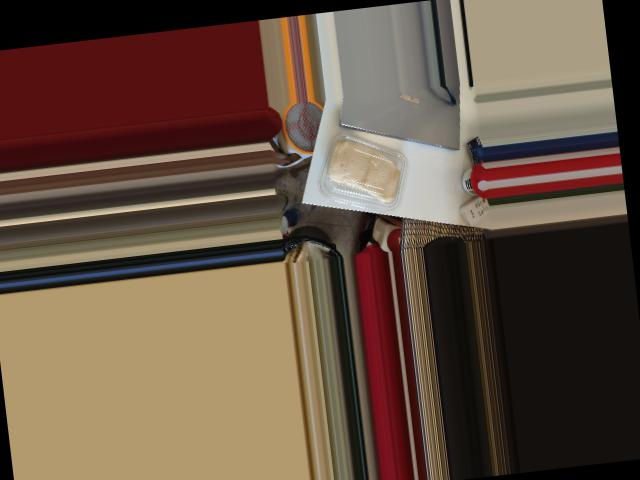cheese: (306, 124, 416, 219)
